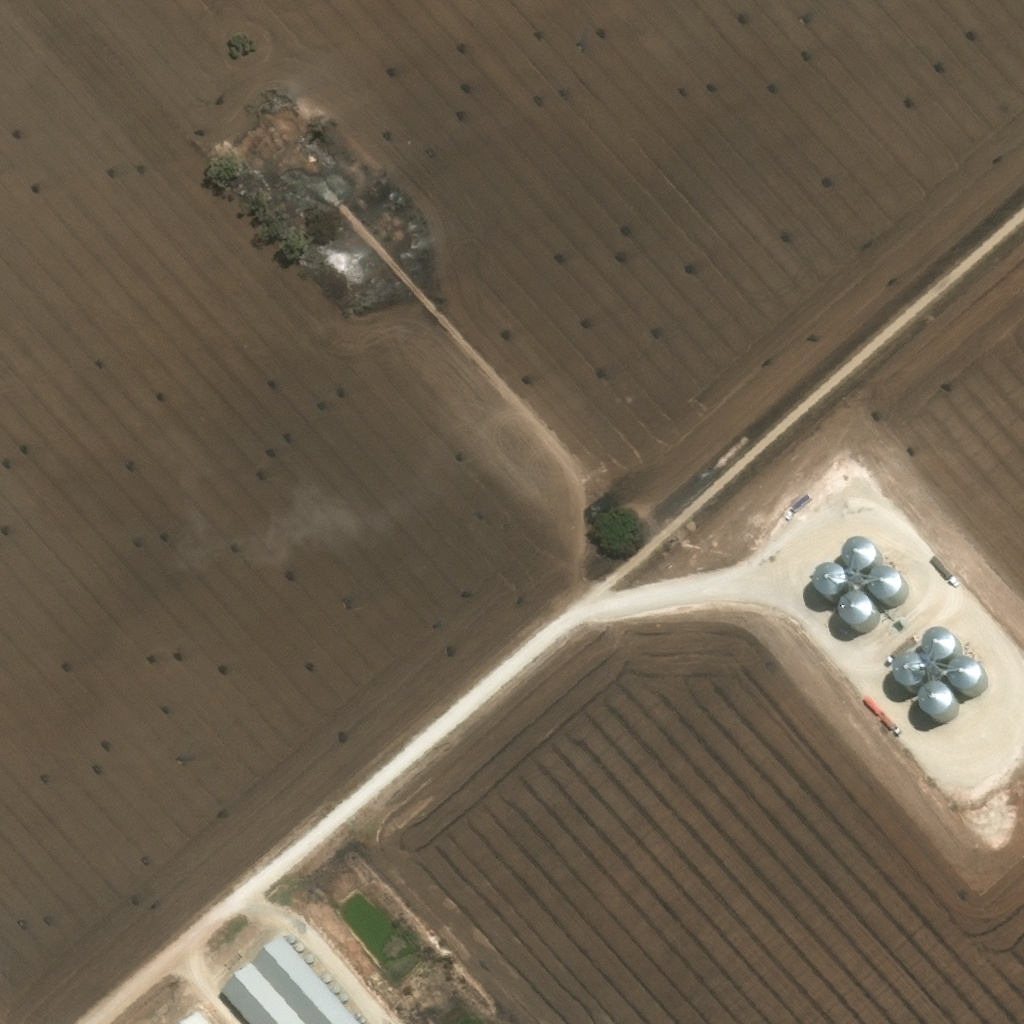0 no-damage: (223, 931, 366, 1023), (923, 672, 961, 723), (898, 643, 935, 695), (844, 581, 881, 633), (952, 647, 989, 698), (873, 557, 910, 607), (819, 553, 855, 604), (849, 527, 884, 568), (928, 618, 964, 657)
4 un-classified: (178, 1010, 210, 1023)
